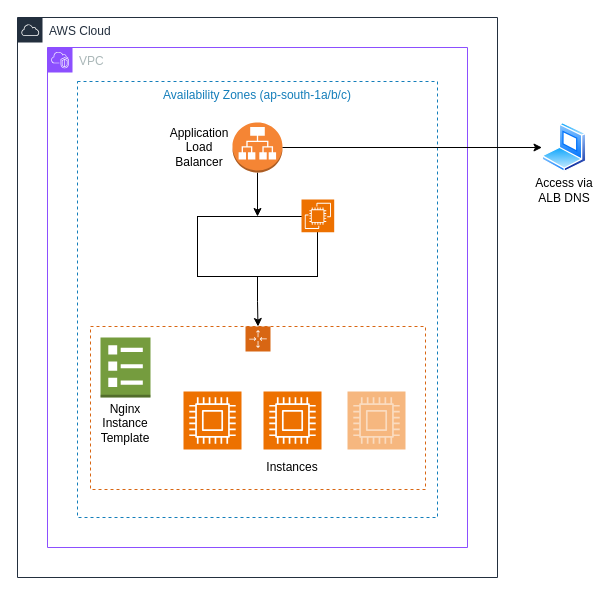
The diagram is 612 pixels wide and 595 high, and some of its shapes have lost their labels. Here are the shapes that lost their labels. From the top down, the box of each, then its label:
(196, 216, 318, 276): Target Group
(90, 326, 426, 490): Auto Scaling Group
